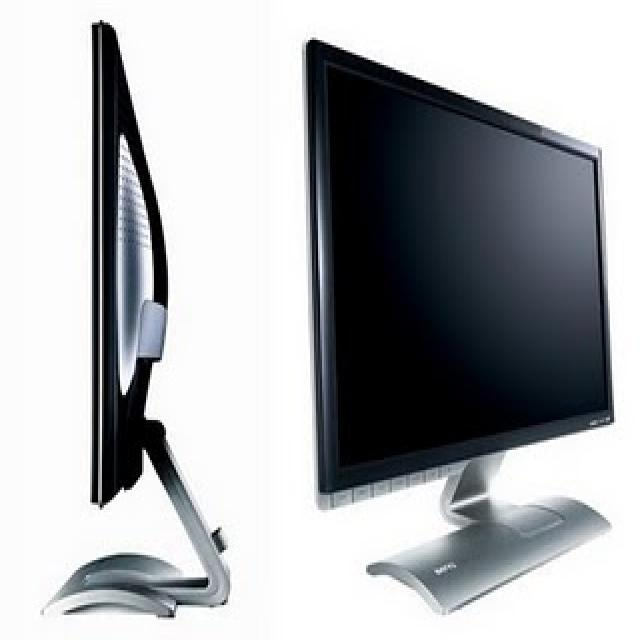monitor: (278, 17, 632, 620), (10, 10, 249, 640)
